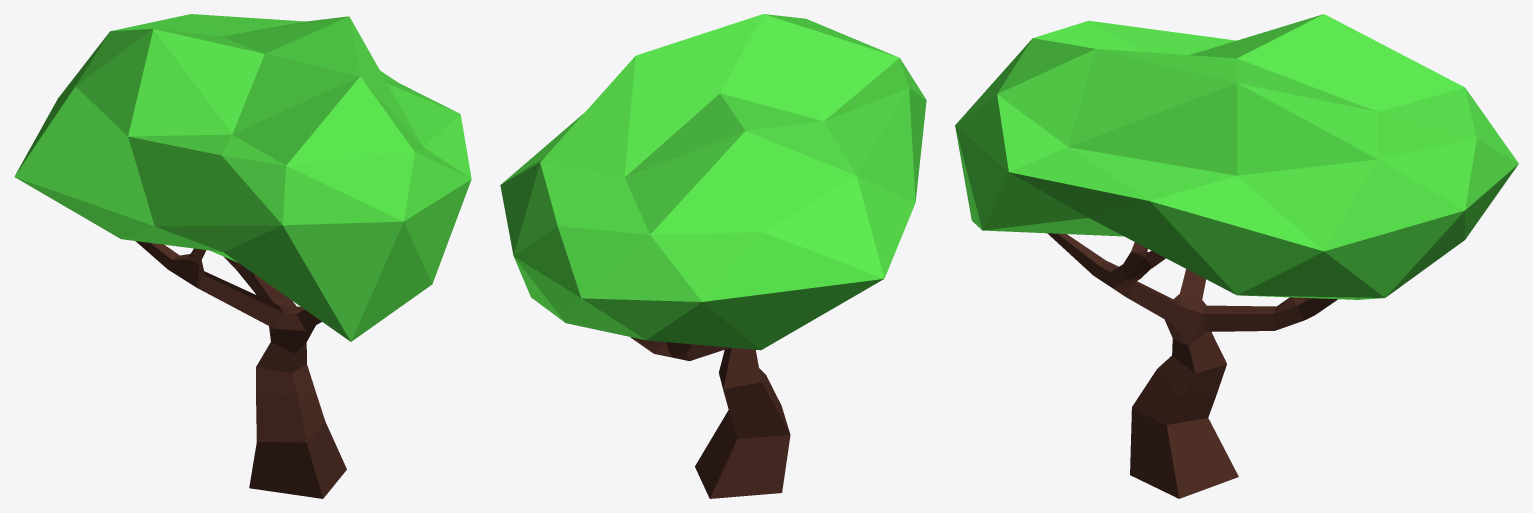
File: Tree3.fbx
3 views of the same model, side by side, from view 1: azimuth 30°, elevation 25°; view 2: azimuth 150°, elevation 25°; view 3: azimuth 270°, elevation 25° (orthographic).
Parts seen in each view (by area): view 1: Leaves3, Trunk3; view 2: Leaves3, Trunk3; view 3: Leaves3, Trunk3.
Boxes of the visible parts, x1=… form: Leaves3: x1=14, y1=14, x2=471, y2=341; Trunk3: x1=135, y1=241, x2=346, y2=498; Leaves3: x1=500, y1=14, x2=926, y2=350; Trunk3: x1=630, y1=337, x2=790, y2=498; Leaves3: x1=955, y1=14, x2=1518, y2=299; Trunk3: x1=1047, y1=233, x2=1337, y2=498.
Bounding box in the file's own units: 413 × 441 × 517.
